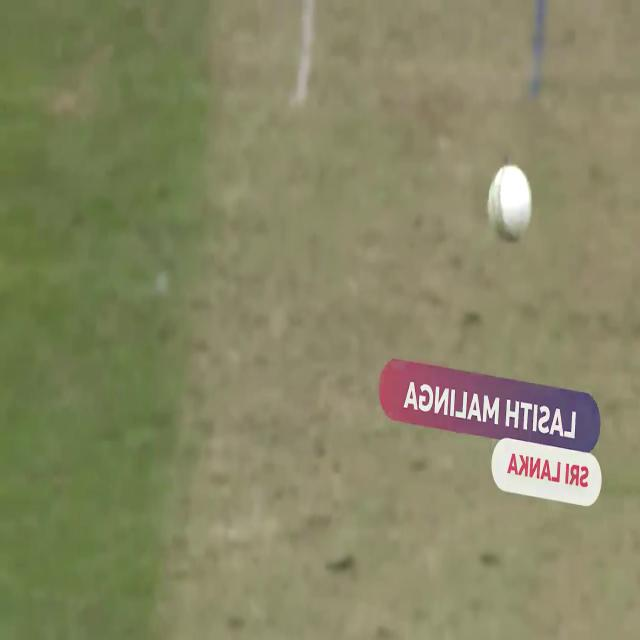ball: (469, 148, 545, 254)
